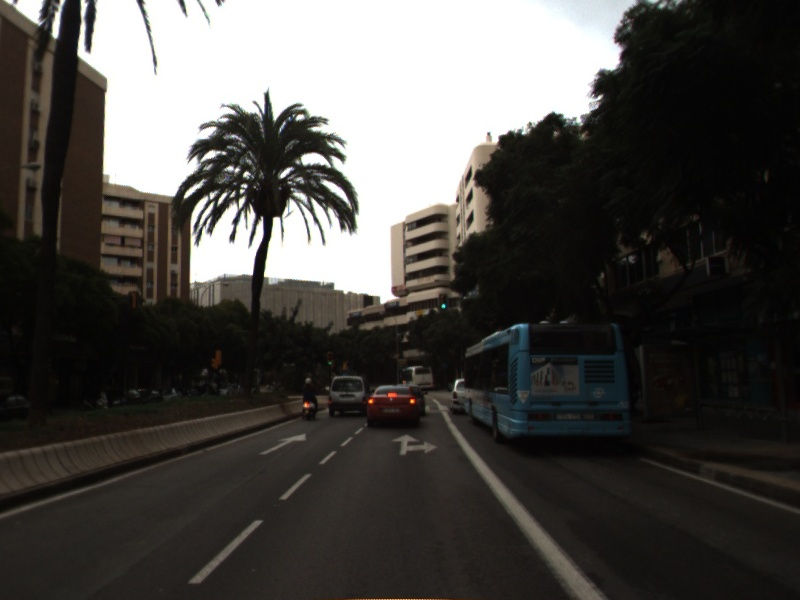STRAIGHT: (257, 431, 308, 457)
STRAIGHT_RIGHT: (389, 432, 440, 457)
